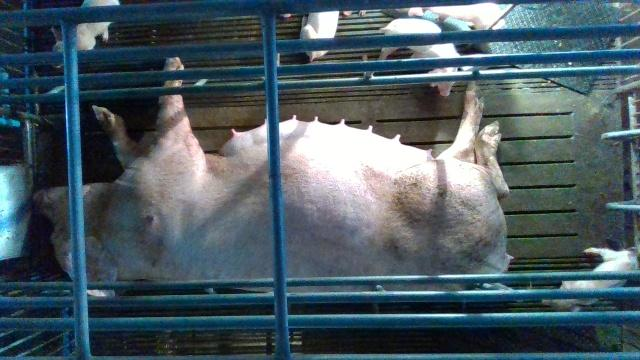piglet: (379, 19, 461, 97), (542, 248, 639, 311), (51, 0, 121, 67), (408, 2, 505, 31), (299, 10, 339, 61)
sow-sleep-lactate: (32, 57, 516, 297)
